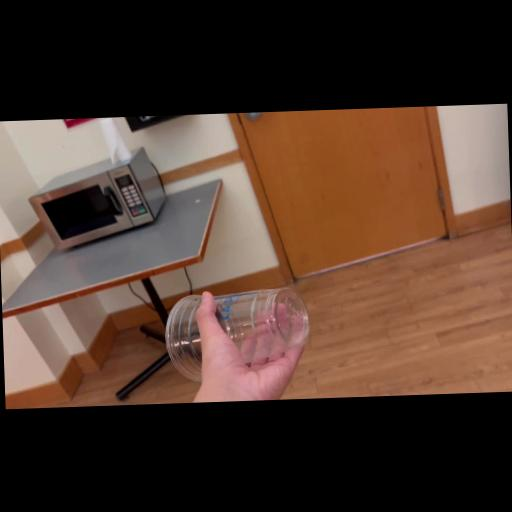lp_plastic_cup: (166, 286, 312, 380)
